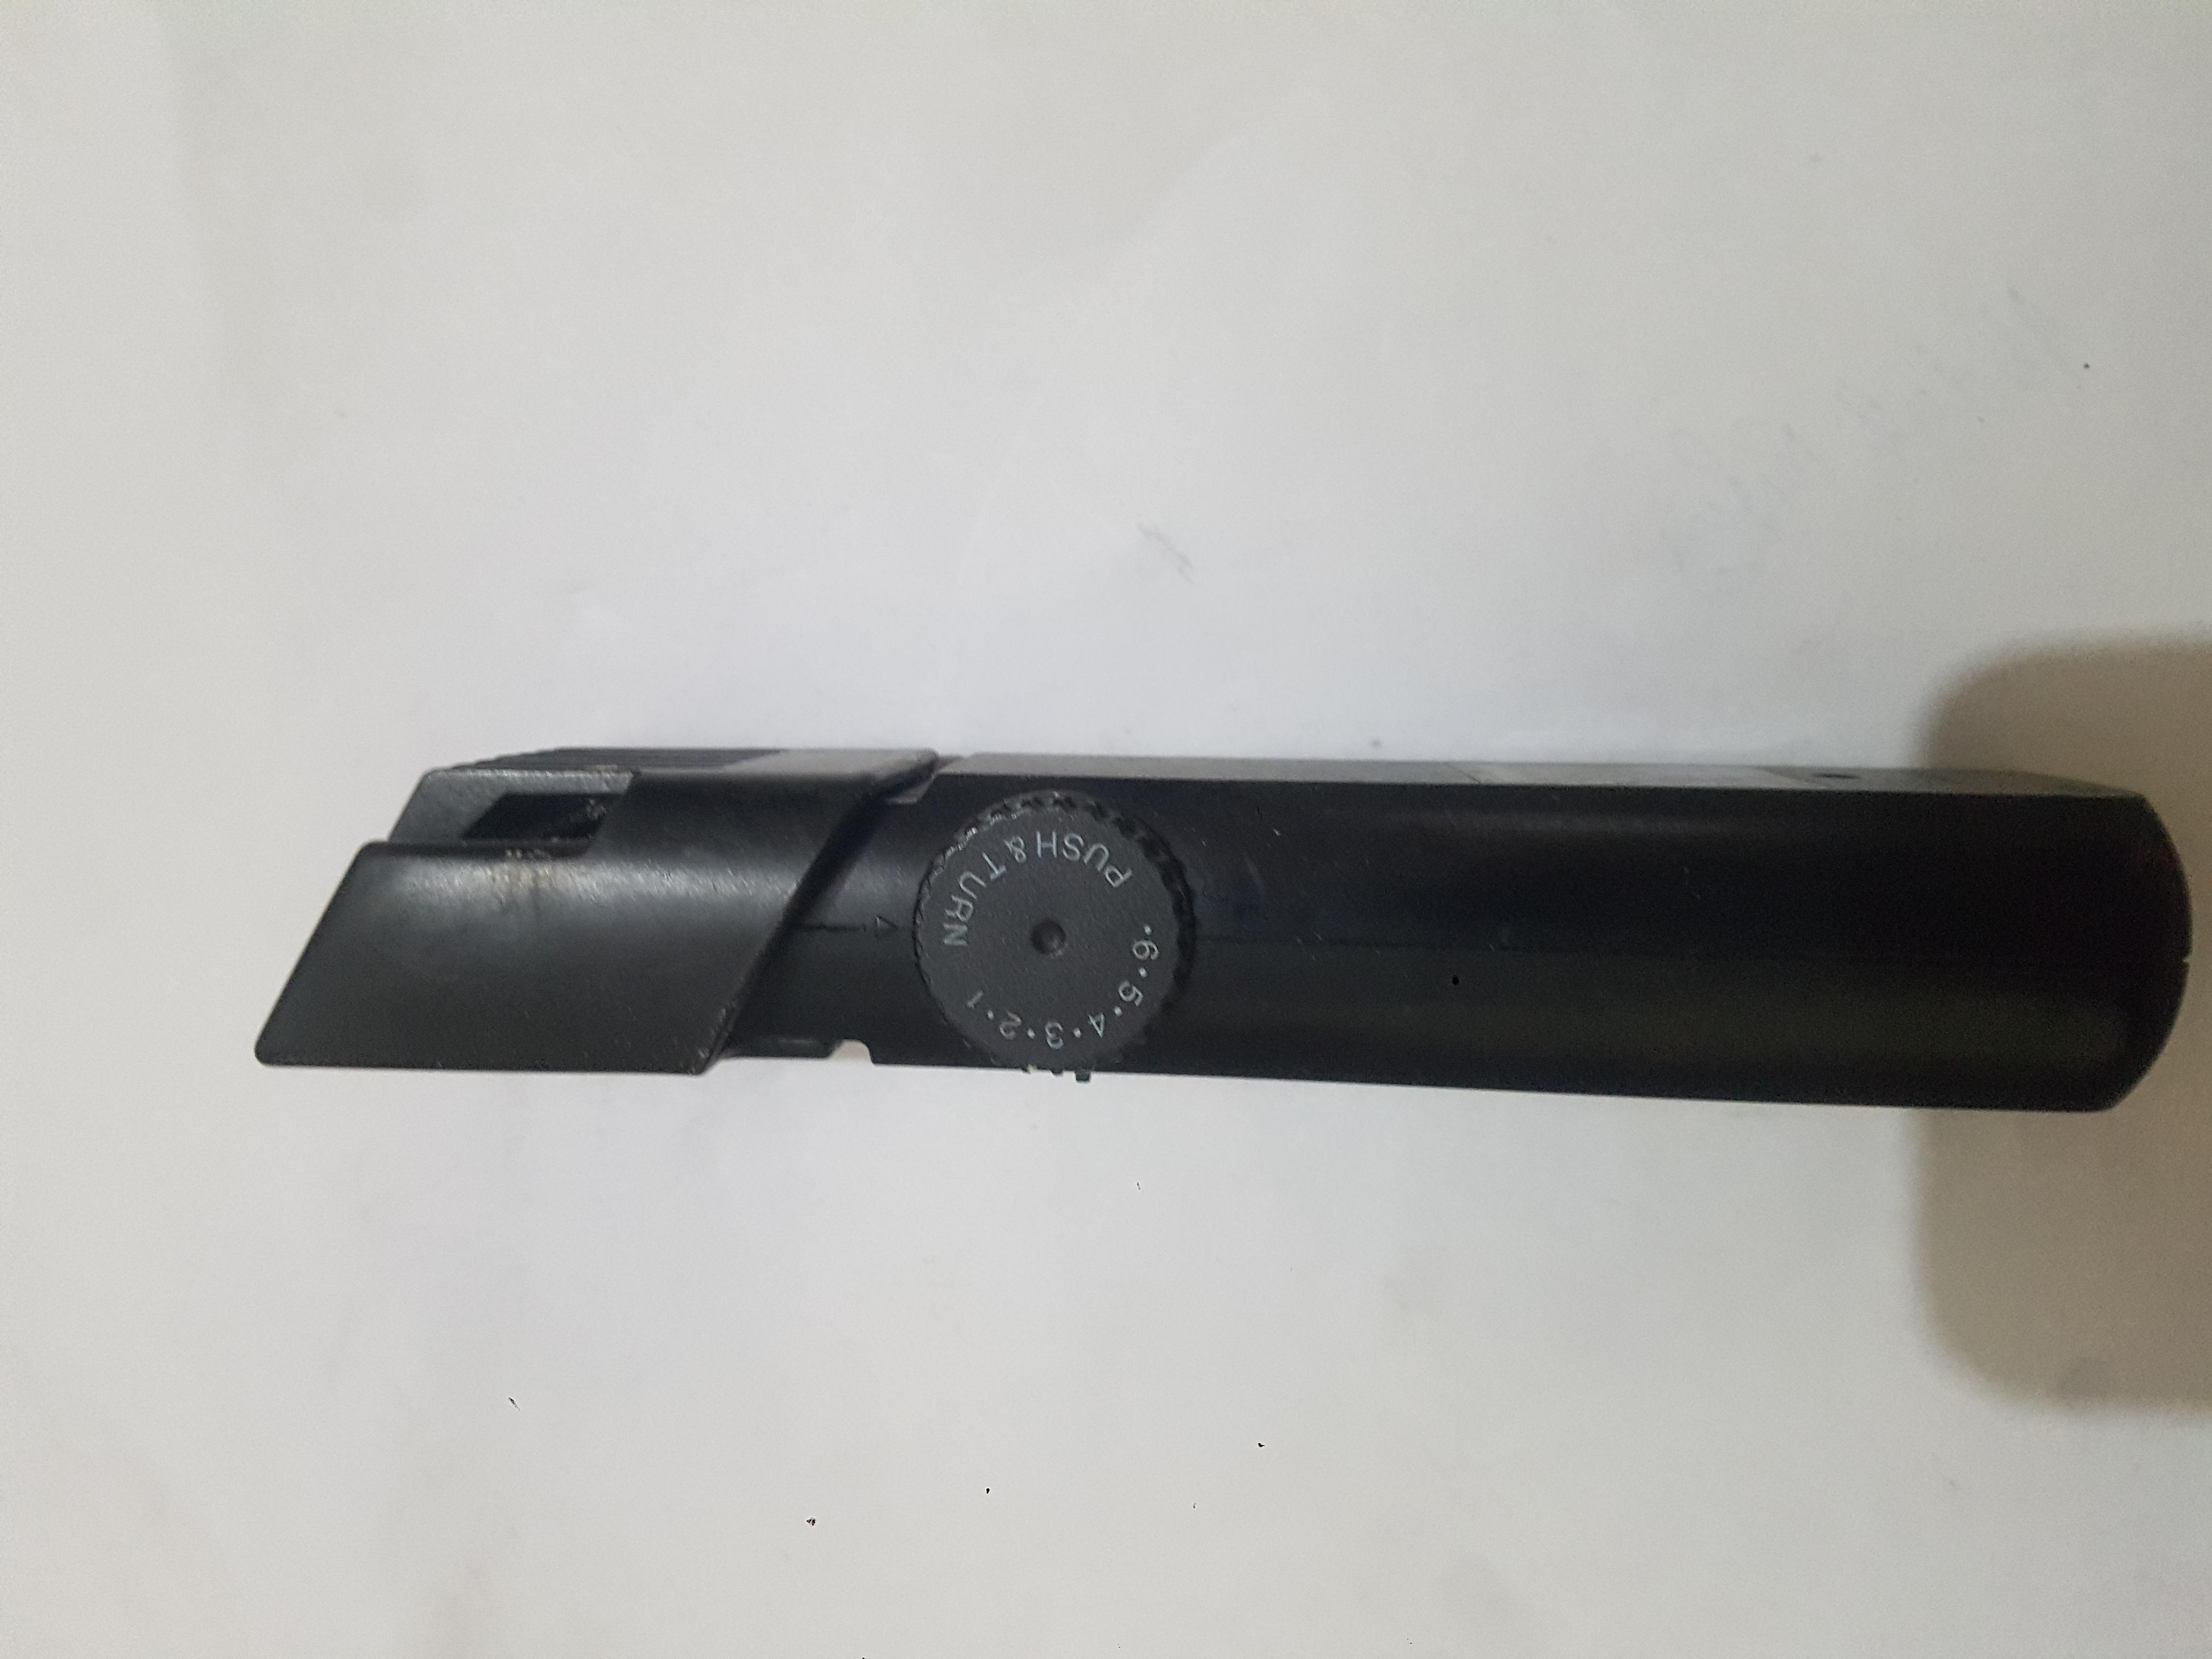electronic: (21, 533, 1987, 941)
